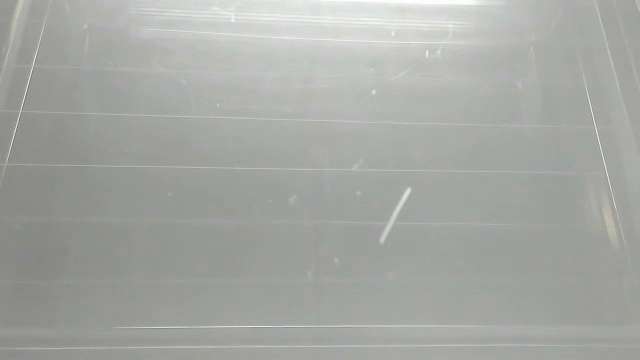alpha: (377, 185, 414, 247)
